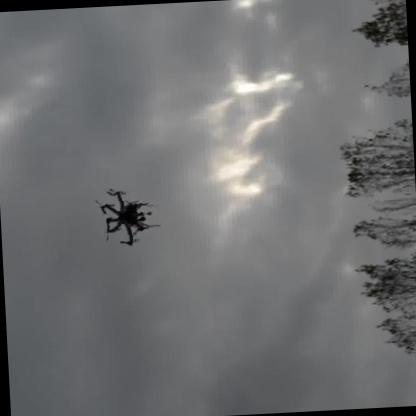drone: (92, 183, 167, 250)
